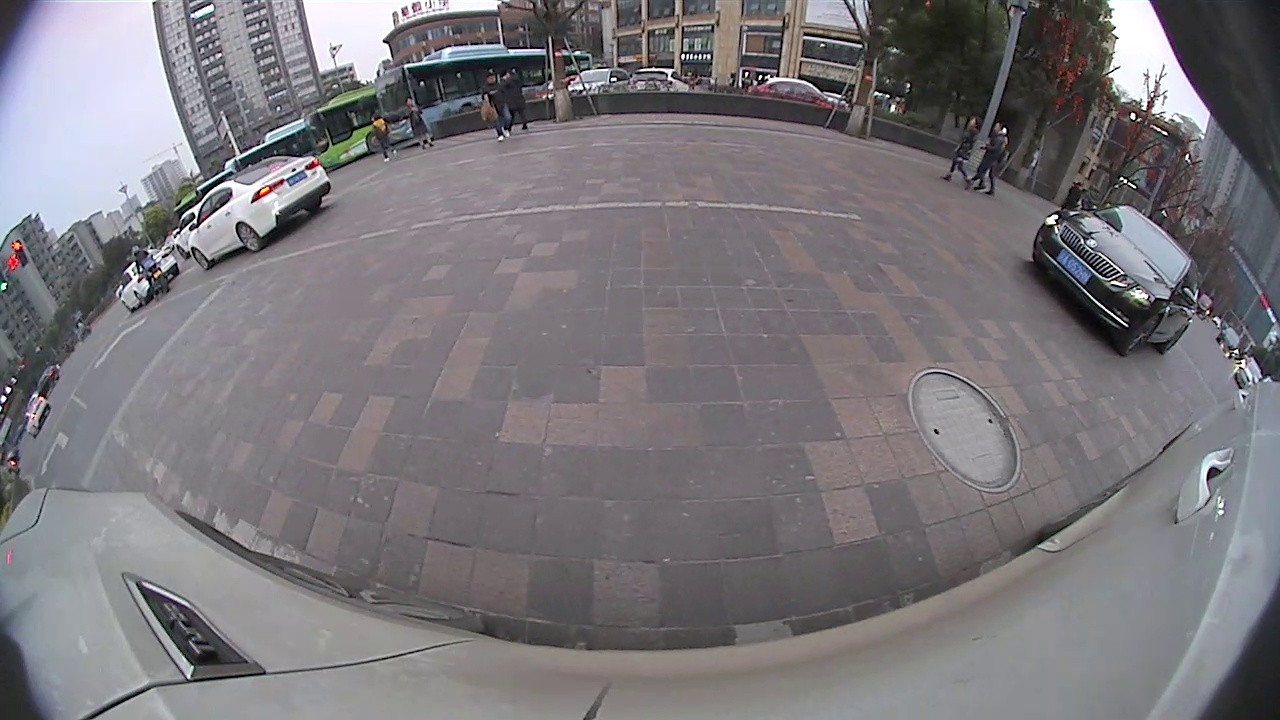bus: (373, 42, 594, 148), (313, 84, 375, 175)
car: (1030, 205, 1201, 359), (186, 154, 332, 272)
front: (1119, 313, 1166, 361)
person: (484, 72, 505, 139), (965, 116, 983, 184), (990, 121, 1004, 191)
rear: (233, 222, 265, 253)
rider: (132, 250, 171, 297)
